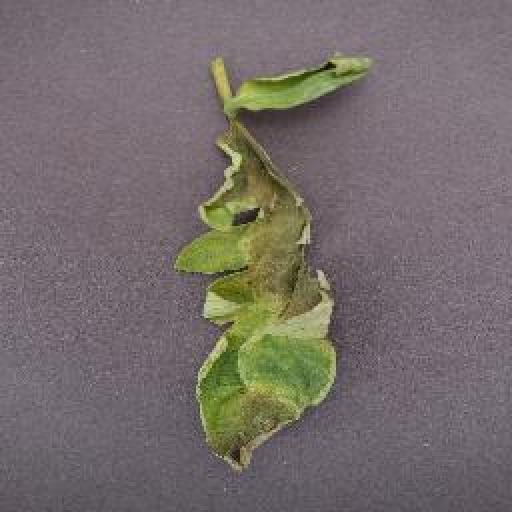disease_tomato: (166, 120, 338, 469), (235, 51, 373, 112)
